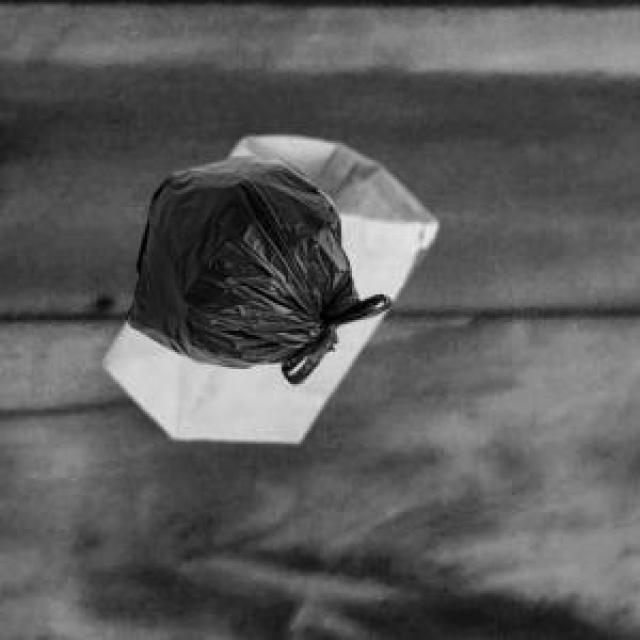miscellaneous trash: (122, 152, 388, 380)
paper: (100, 132, 433, 437)
